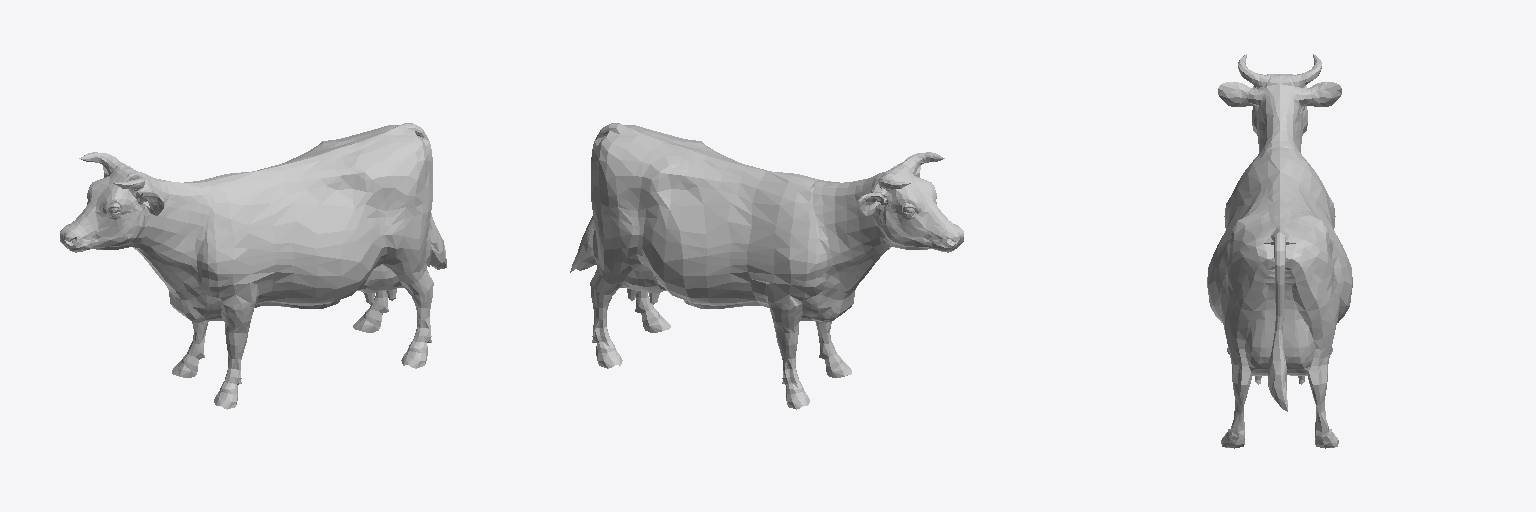
Rendered from cow.obj.
3 renders of one model, left to right at view 1: azimuth 30°, elevation 25°; view 2: azimuth 150°, elevation 25°; view 3: azimuth 270°, elevation 25°, orthographic.
Visible parts, largest first — view 1: cow; view 2: cow; view 3: cow.
Boxes of the visible parts, <box> form: cow: <box>60,123,446,409</box>; cow: <box>570,123,963,409</box>; cow: <box>1207,54,1352,448</box>.
Bounding box in the file's own units: 10.44 × 6.4 × 3.4.